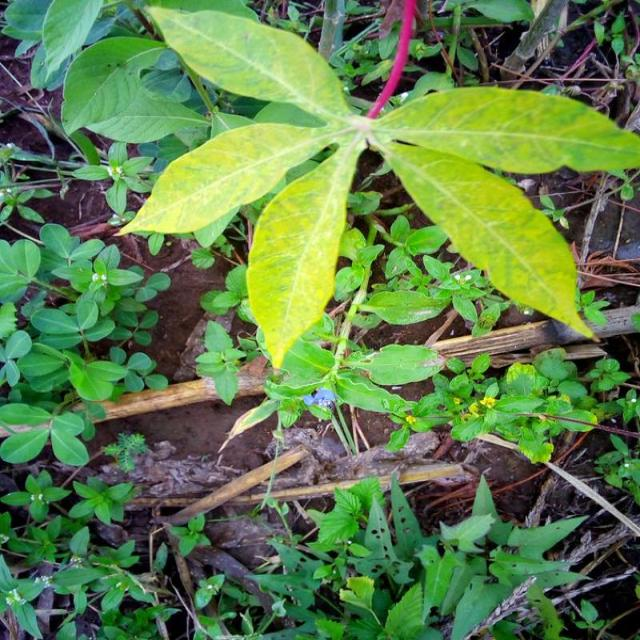cassava leaf: (111, 2, 638, 370), (371, 132, 598, 342), (244, 137, 363, 370)
